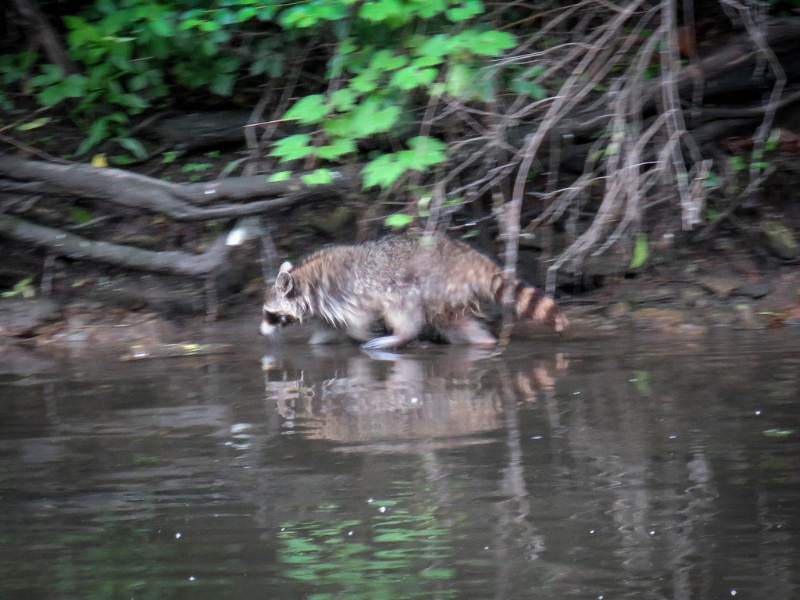raccoon: (257, 234, 576, 371)
